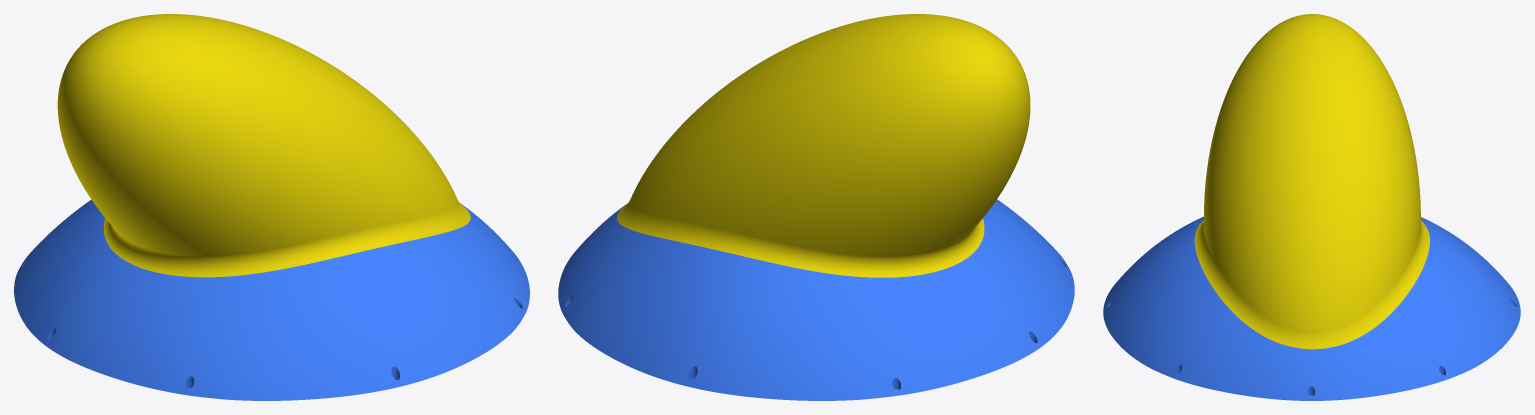
File: hold_convex_no8.glb
3 renders of one model, left to right at view 1: azimuth 30°, elevation 25°; view 2: azimuth 150°, elevation 25°; view 3: azimuth 270°, elevation 25°, orthographic. The views are drawn at different scales.
Visible parts, largest first — view 1: Object_2, Object_3; view 2: Object_2, Object_3; view 3: Object_2, Object_3.
Boxes of the visible parts, x1,y1,x2,y2 form: Object_2: [57, 14, 470, 277]; Object_3: [14, 199, 529, 400]; Object_2: [617, 14, 1030, 277]; Object_3: [558, 199, 1074, 400]; Object_2: [1194, 14, 1429, 349]; Object_3: [1103, 216, 1520, 400].
Size of the model in its own units: 484 by 304 by 481.
